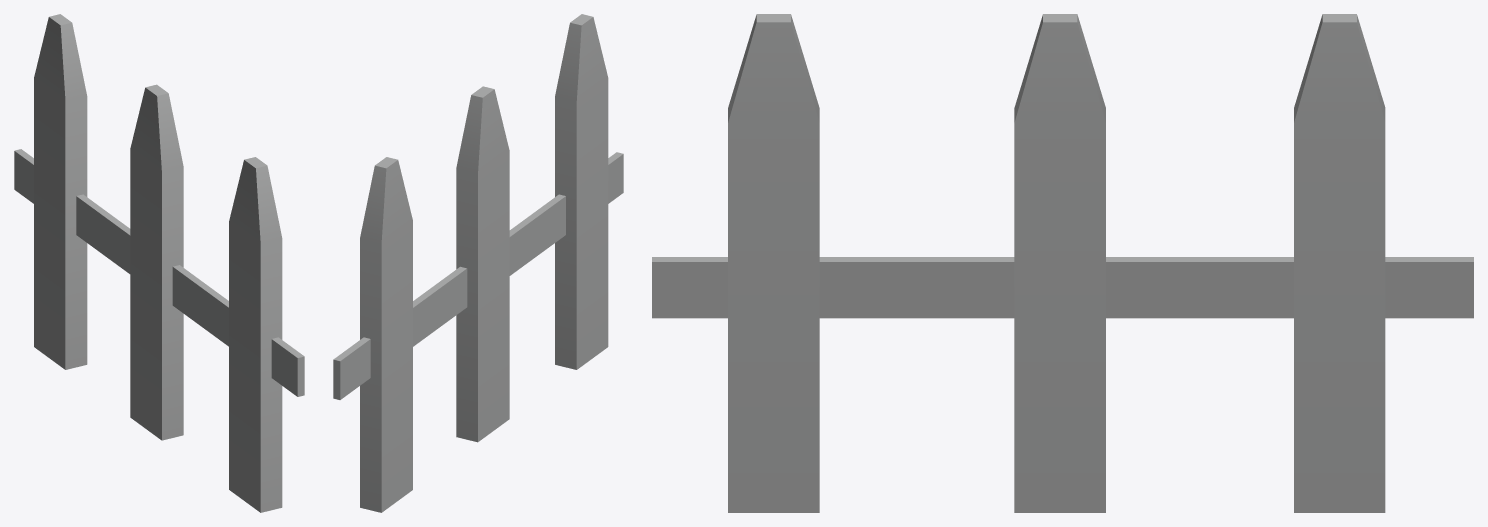
The model's file is fench1.FBX.
3 renders of one model, left to right at view 1: azimuth 30°, elevation 25°; view 2: azimuth 150°, elevation 25°; view 3: azimuth 270°, elevation 25°, orthographic. The views are drawn at different scales.
Parts seen in each view (by area): view 1: fench1; view 2: fench1; view 3: fench1.
Boxes of the visible parts, box(x1,y1,x2,y2) form: fench1: box(14, 14, 304, 512); fench1: box(333, 14, 623, 512); fench1: box(652, 14, 1473, 512).
Size of the model in its own units: 0.289 by 4.28 by 6.54.
